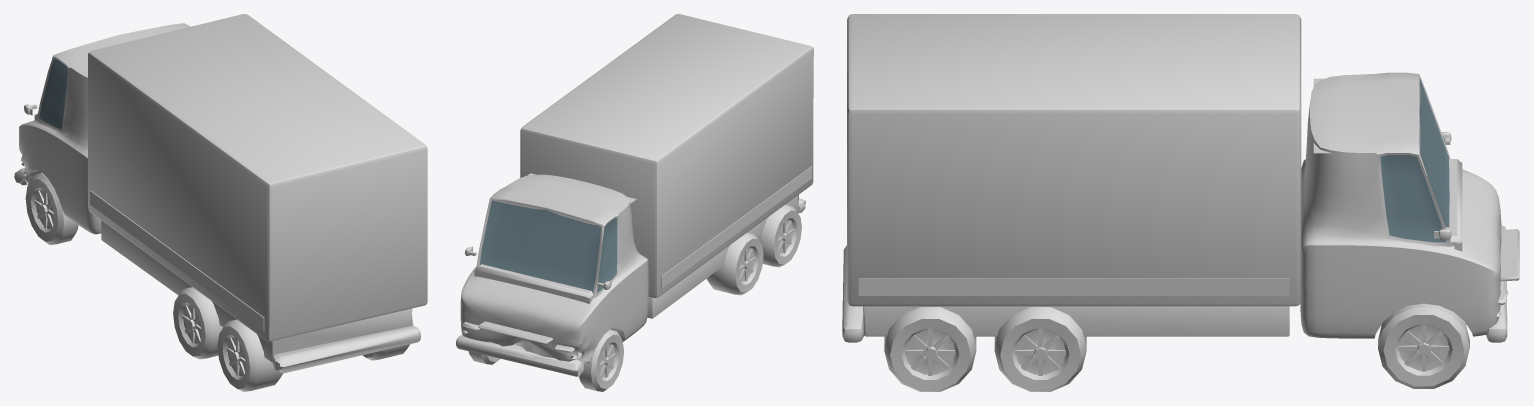
The model's file is car_truck_dmg2.glb.
3 views of the same model, side by side, from view 1: azimuth 30°, elevation 25°; view 2: azimuth 150°, elevation 25°; view 3: azimuth 270°, elevation 25° (orthographic). The views are drawn at different scales.
Visible parts, largest first — view 1: car_truck_dmg2; view 2: car_truck_dmg2; view 3: car_truck_dmg2.
Part boxes in pixels (x1,y1,x2,y2): car_truck_dmg2: (14, 14, 427, 391); car_truck_dmg2: (456, 14, 813, 391); car_truck_dmg2: (842, 14, 1519, 391).
Size of the model in its own units: 2.48 by 3.29 by 7.07.
